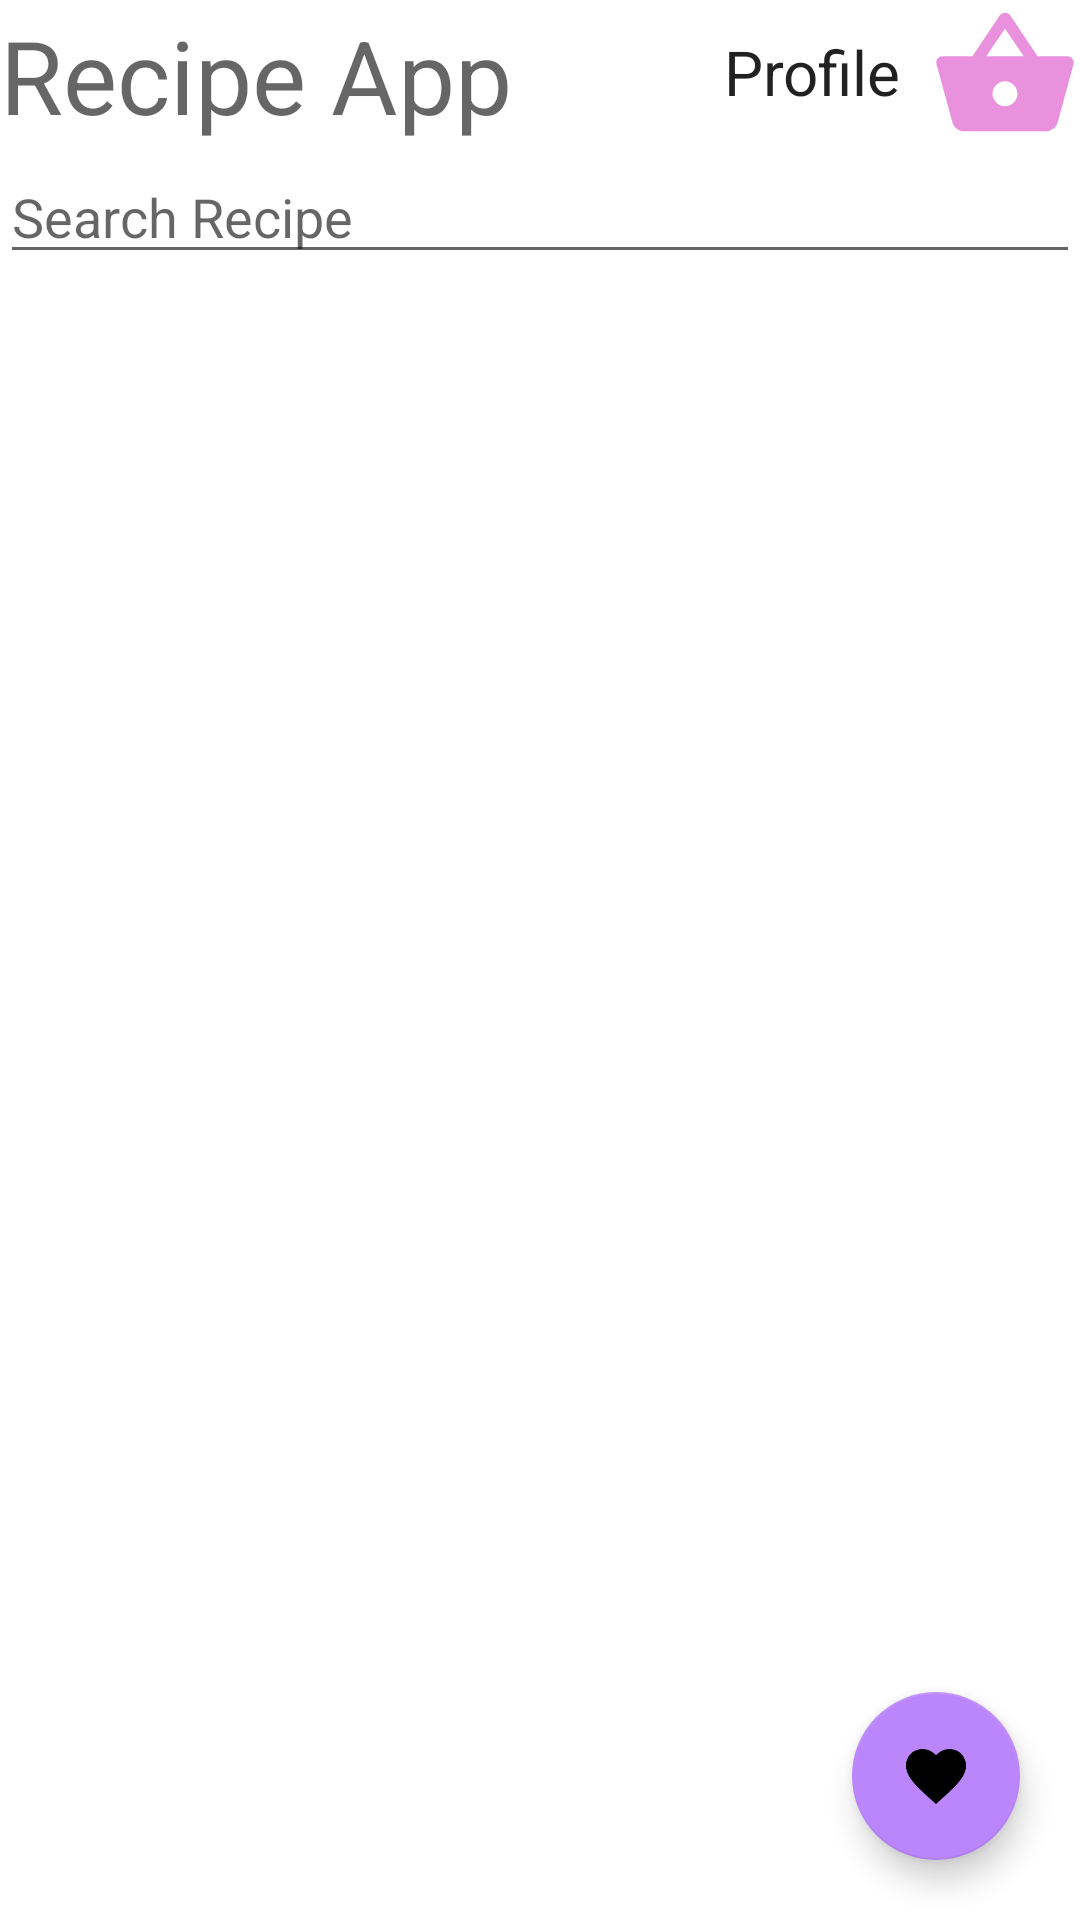

Locate icon controls on the screen. Image size 1080*1920, boxes as [x1,y1,x2,y2].
favorite: [852,1692,1020,1860]
shopping basket: [936,13,1074,132]
